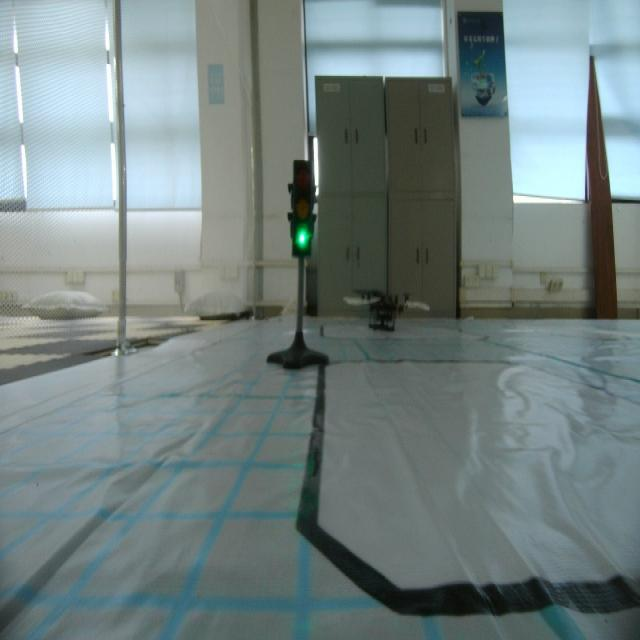green: (283, 150, 323, 260)
